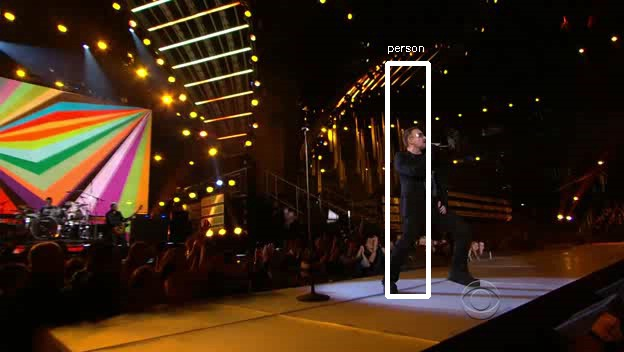person: (393, 132, 454, 242), (390, 132, 451, 242), (396, 132, 457, 242), (393, 129, 454, 239), (393, 135, 454, 245)
target_negative: (382, 37, 624, 214), (458, 35, 571, 180), (370, 246, 483, 327), (210, 280, 446, 314), (238, 297, 279, 307), (464, 277, 519, 281)
